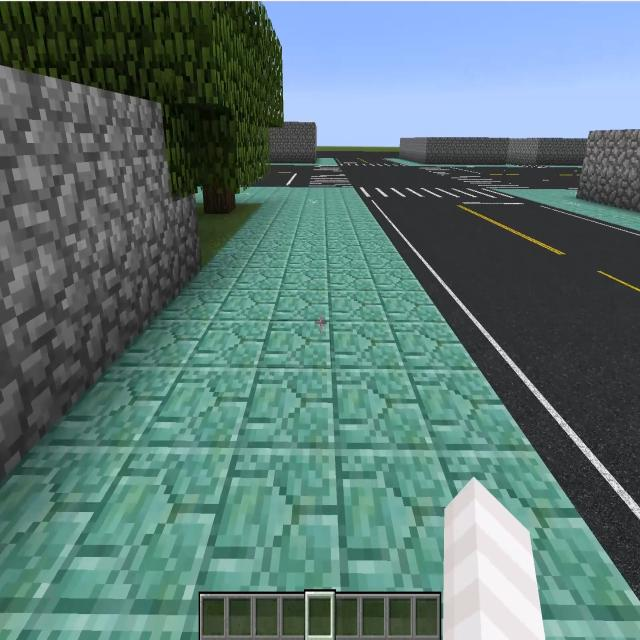crosswalk: (375, 187, 513, 203), (309, 167, 350, 186)
road: (260, 152, 639, 593)
sidewalk: (0, 187, 640, 639), (493, 189, 640, 233), (316, 157, 337, 165)
